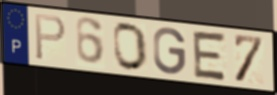6: (75, 15, 106, 70)
7: (232, 33, 266, 85)
E: (191, 29, 229, 83)
G: (152, 26, 188, 77)
O: (112, 21, 150, 73)
P: (33, 13, 68, 62)
